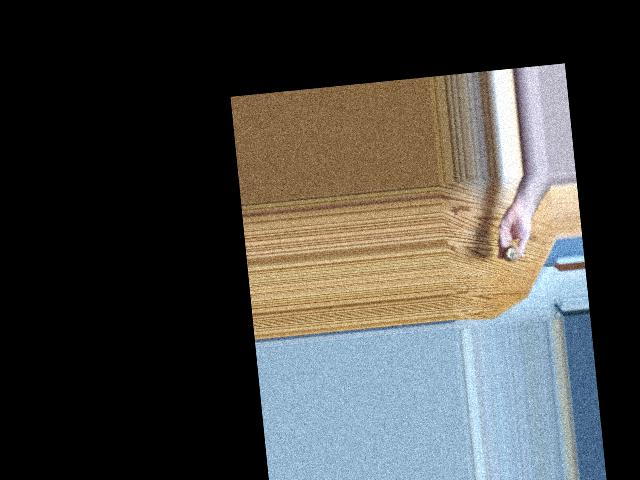sweet_potato: (505, 244, 523, 267)
